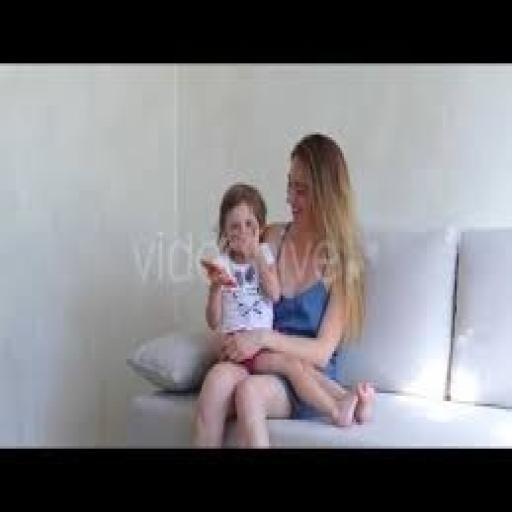hugging: (190, 129, 378, 449)
